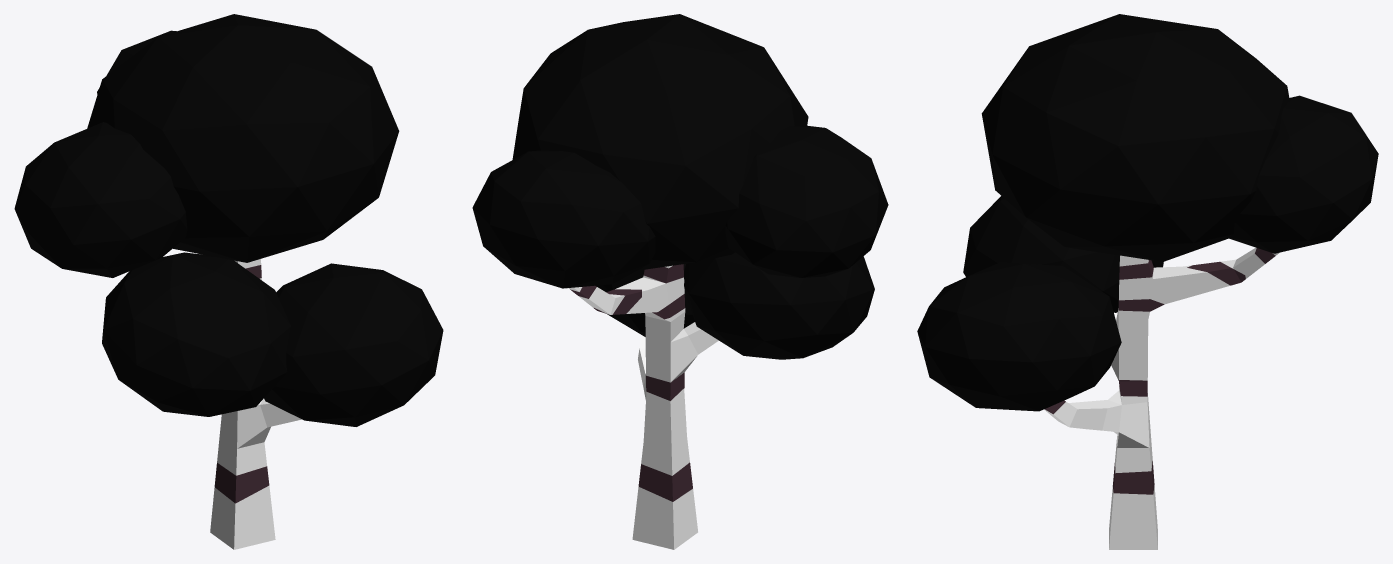
Rendered from Tree_13.fbx.
The picture shows the model from 3 angles, left to right: view 1: azimuth 30°, elevation 25°; view 2: azimuth 150°, elevation 25°; view 3: azimuth 270°, elevation 25°; orthographic projection. The views are drawn at different scales.
Parts seen in each view (by area): view 1: Tree_13; view 2: Tree_13; view 3: Tree_13.
Part boxes in pixels (x1,y1,x2,y2): Tree_13: [14, 14, 443, 549]; Tree_13: [472, 14, 888, 549]; Tree_13: [917, 14, 1378, 549].
Bounding box in the file's own units: 416 × 576 × 472.
